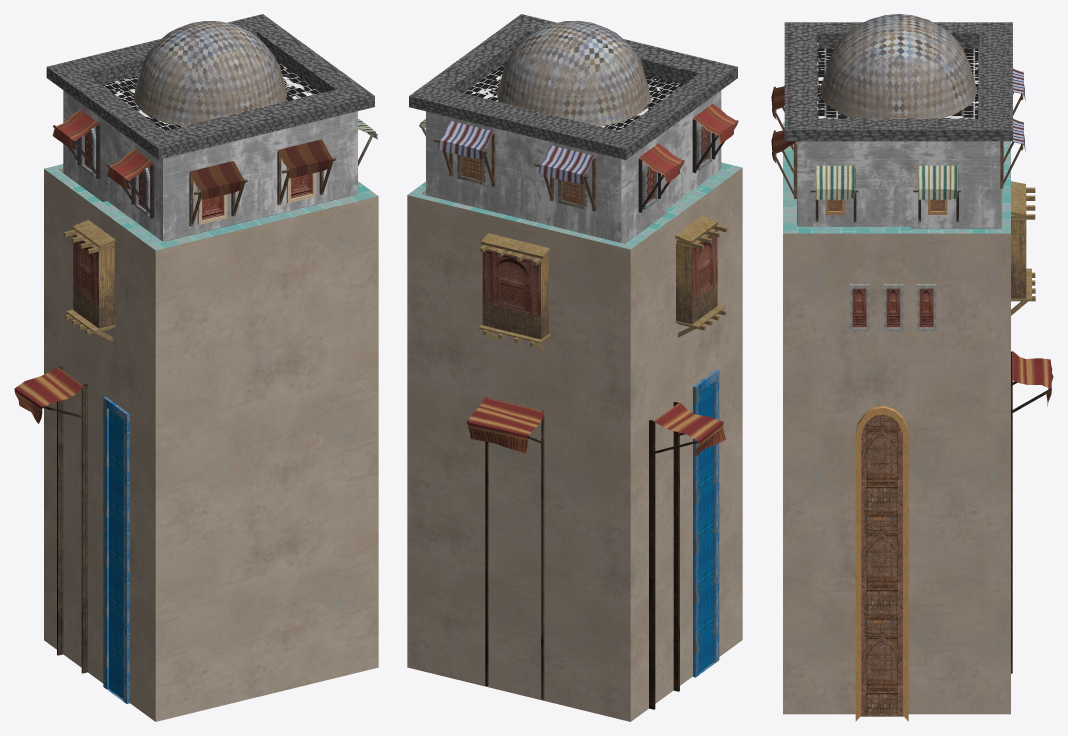
Rendered from medina_cityscape_daar_05_1.gltf.
The picture shows the model from 3 angles, left to right: view 1: azimuth 30°, elevation 25°; view 2: azimuth 150°, elevation 25°; view 3: azimuth 270°, elevation 25°; orthographic projection.
Parts seen in each view (by area): view 1: medina_cityscape_daar_05_1; view 2: medina_cityscape_daar_05_1; view 3: medina_cityscape_daar_05_1.
Part boxes in pixels (x1,y1,x2,y2): medina_cityscape_daar_05_1: [14, 14, 378, 721]; medina_cityscape_daar_05_1: [407, 14, 742, 721]; medina_cityscape_daar_05_1: [771, 14, 1053, 721].
Size of the model in its own units: 6.08 by 12.66 by 5.04.
Materials: 16 (16 with a texture image).
